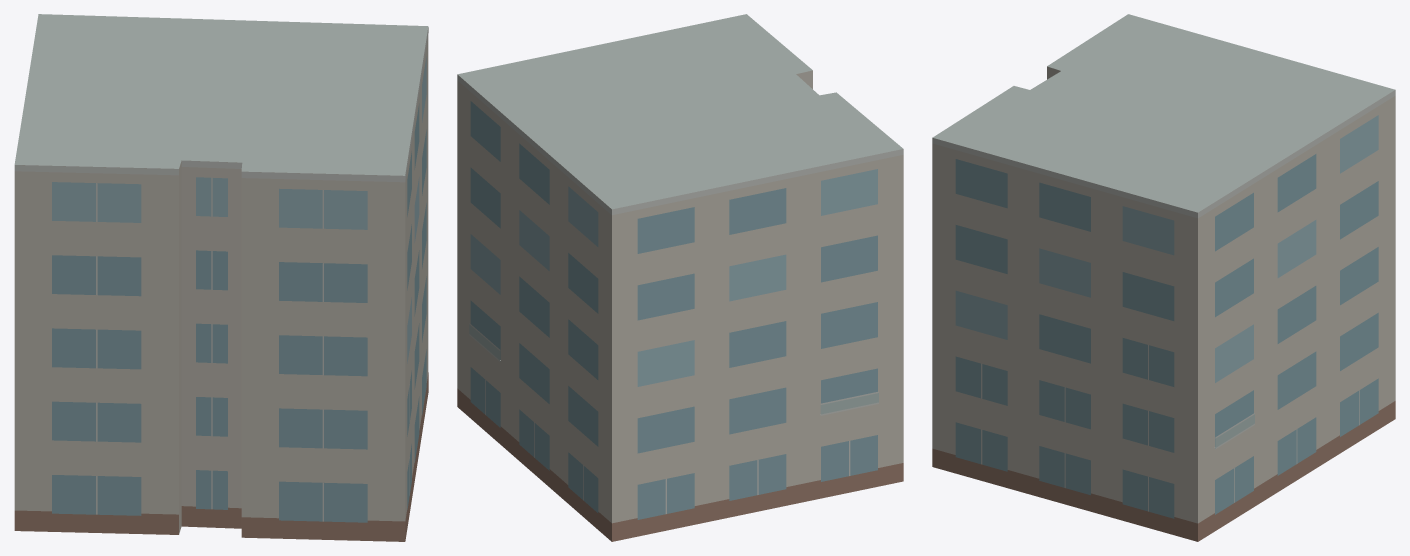
The model's file is survey-upis-32932986.glb.
The picture shows the model from 3 angles, left to right: view 1: azimuth 30°, elevation 25°; view 2: azimuth 150°, elevation 25°; view 3: azimuth 270°, elevation 25°; orthographic projection. The views are drawn at different scales.
Parts seen in each view (by area): view 1: survey-upis-32932986.tmp; view 2: survey-upis-32932986.tmp; view 3: survey-upis-32932986.tmp.
Boxes of the visible parts, x1=… form: survey-upis-32932986.tmp: x1=14, y1=14, x2=428, y2=541; survey-upis-32932986.tmp: x1=457, y1=14, x2=903, y2=541; survey-upis-32932986.tmp: x1=932, y1=14, x2=1395, y2=541.
Bounding box in the file's own units: 17.93 × 13.85 × 17.67.
